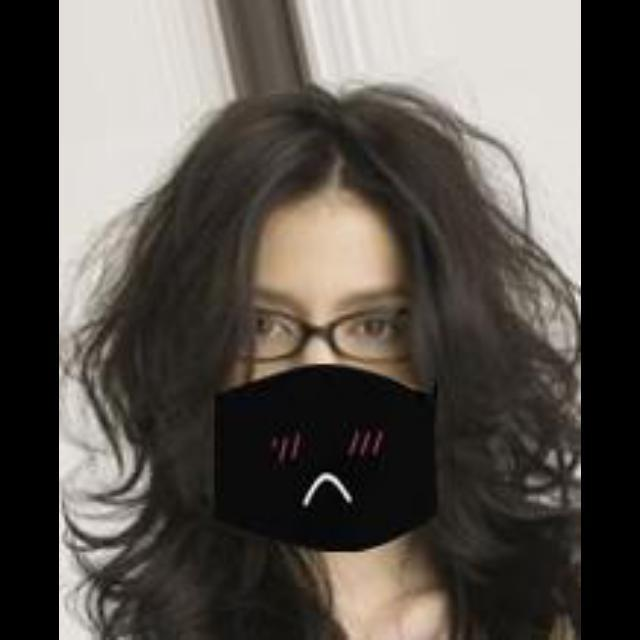suspicion: (187, 108, 498, 554)
